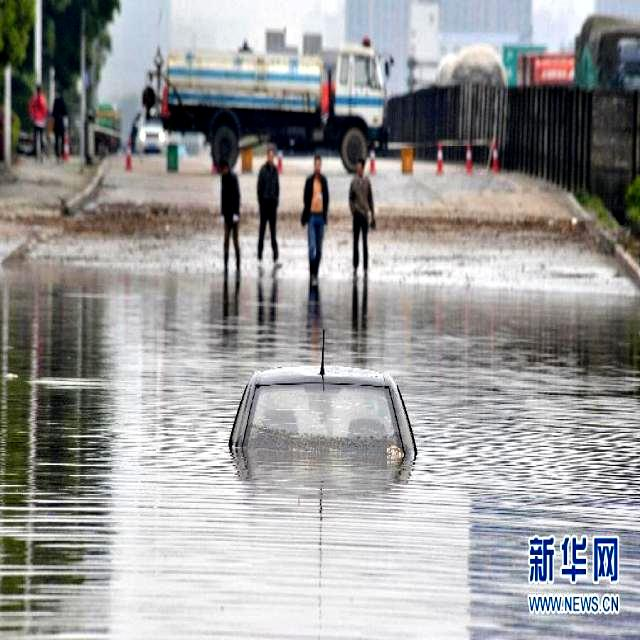civilian: (296, 141, 338, 290), (346, 151, 384, 285), (252, 149, 290, 275), (213, 154, 250, 282), (46, 86, 69, 169), (31, 84, 53, 165)
